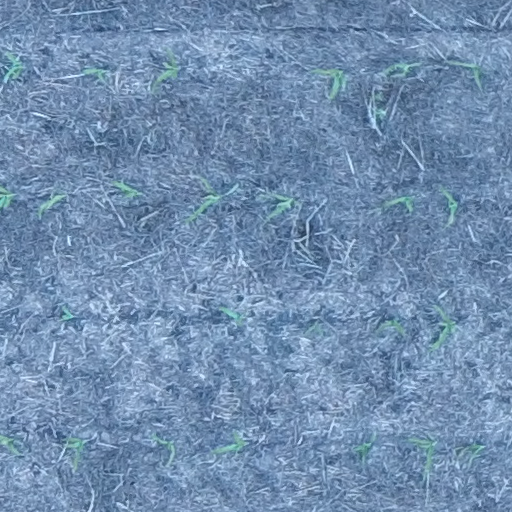planta: (181, 173, 226, 227), (147, 45, 182, 98), (402, 434, 440, 481), (425, 302, 459, 354), (308, 64, 350, 104), (258, 190, 302, 223), (445, 57, 486, 89), (208, 429, 249, 458), (33, 187, 69, 220), (60, 433, 88, 474), (148, 431, 179, 468), (437, 183, 460, 230), (375, 191, 418, 215), (350, 431, 379, 466), (380, 58, 423, 81), (1, 49, 26, 85), (372, 314, 408, 338), (451, 440, 487, 464), (108, 178, 144, 201), (217, 303, 246, 329), (78, 64, 109, 83), (301, 319, 327, 340)
